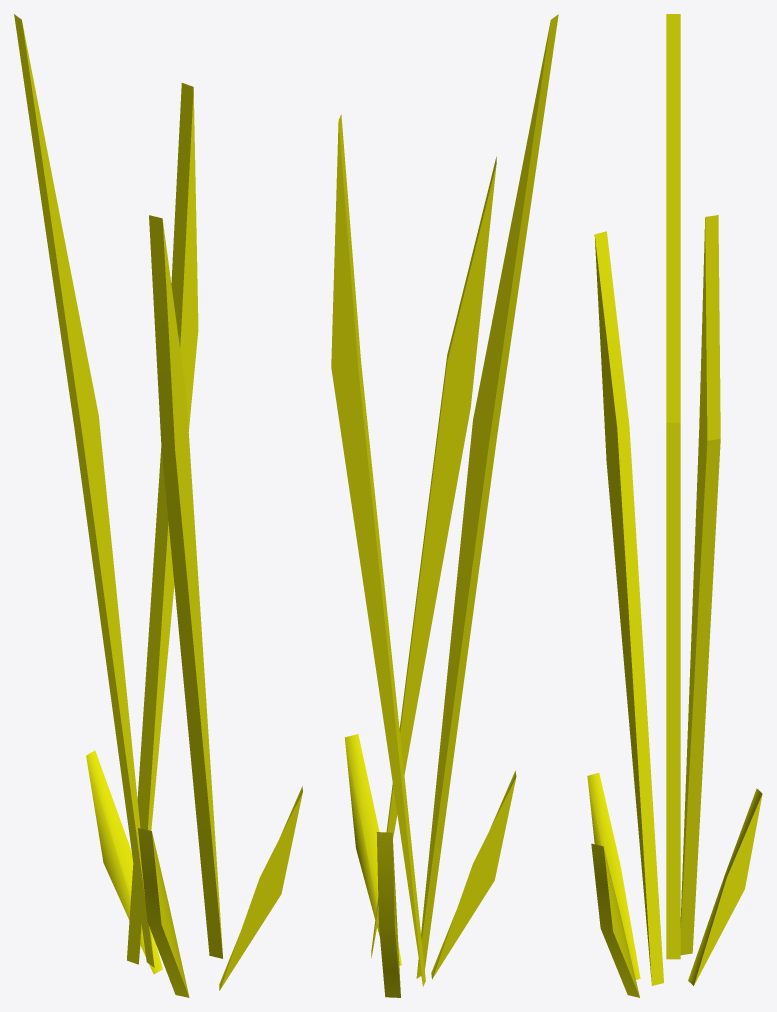
The model's file is Plant_Yellow.fbx.
3 renders of one model, left to right at view 1: azimuth 30°, elevation 25°; view 2: azimuth 150°, elevation 25°; view 3: azimuth 270°, elevation 25°, orthographic. The views are drawn at different scales.
Parts seen in each view (by area): view 1: Cube_1, Cube_2, Cube, Cube_4, Cube_3, Cube_5; view 2: Cube_2, Cube, Cube_1, Cube_5, Cube_3, Cube_4; view 3: Cube_1, Cube_2, Cube, Cube_4, Cube_5, Cube_3.
Boxes of the visible parts, x1=… form: Cube_1: x1=149, y1=215, x2=222, y2=958; Cube_2: x1=14, y1=14, x2=154, y2=967; Cube: x1=127, y1=83, x2=198, y2=964; Cube_4: x1=86, y1=750, x2=162, y2=974; Cube_3: x1=138, y1=828, x2=189, y2=997; Cube_5: x1=219, y1=786, x2=302, y2=990; Cube_2: x1=416, y1=14, x2=558, y2=978; Cube: x1=331, y1=114, x2=425, y2=986; Cube_1: x1=371, y1=156, x2=496, y2=958; Cube_5: x1=344, y1=734, x2=401, y2=965; Cube_3: x1=431, y1=770, x2=516, y2=979; Cube_4: x1=376, y1=832, x2=400, y2=997; Cube_1: x1=594, y1=231, x2=663, y2=985; Cube_2: x1=666, y1=14, x2=680, y2=959; Cube: x1=680, y1=215, x2=720, y2=955; Cube_4: x1=688, y1=788, x2=762, y2=985; Cube_5: x1=591, y1=843, x2=639, y2=997; Cube_3: x1=587, y1=773, x2=640, y2=979.
Bounding box in the file's own units: 71.86 × 279 × 49.
